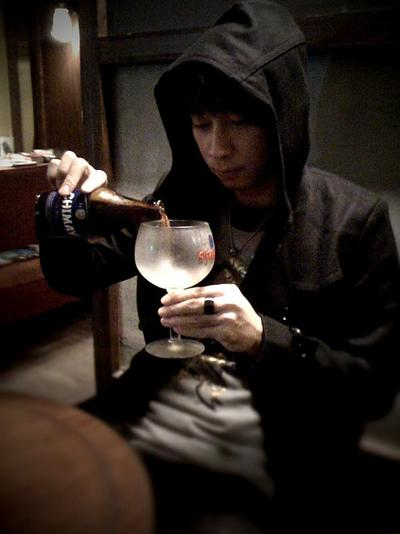person: (40, 3, 400, 534)
